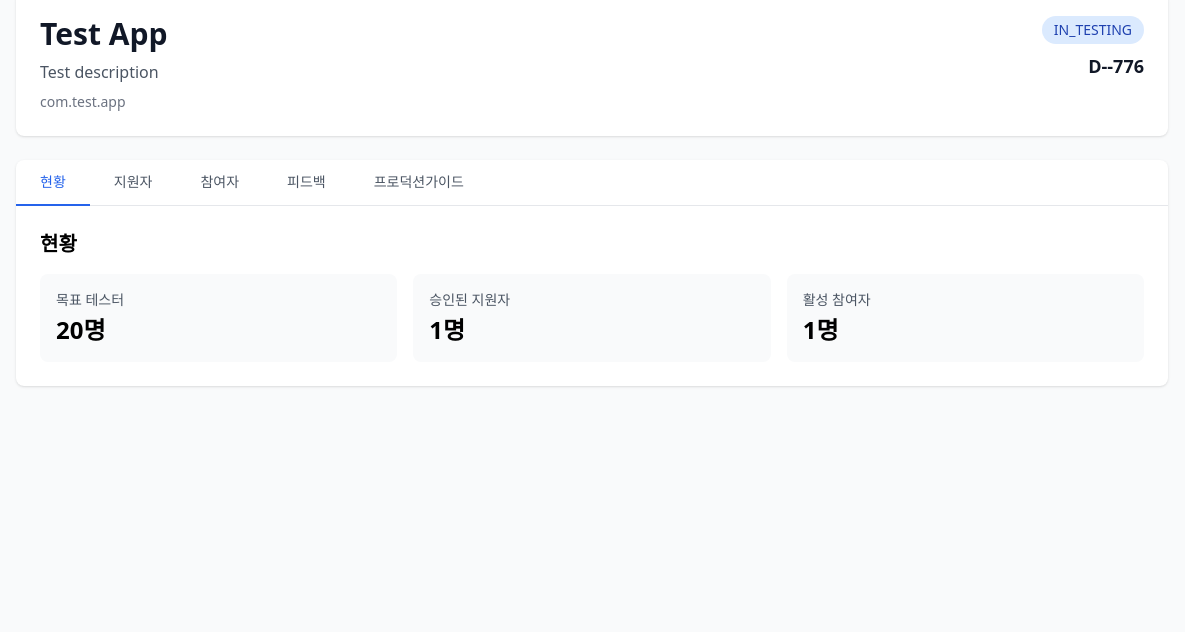
Test: AppDetailPage › Applicants Tab › displays applicants list
The width and height of the screenshot is (1185, 632).
Expected: the heading "Test App" is shown, [40,16,167,52]
Click the tab "지원자" at (133, 183), box [90,160,176,206]
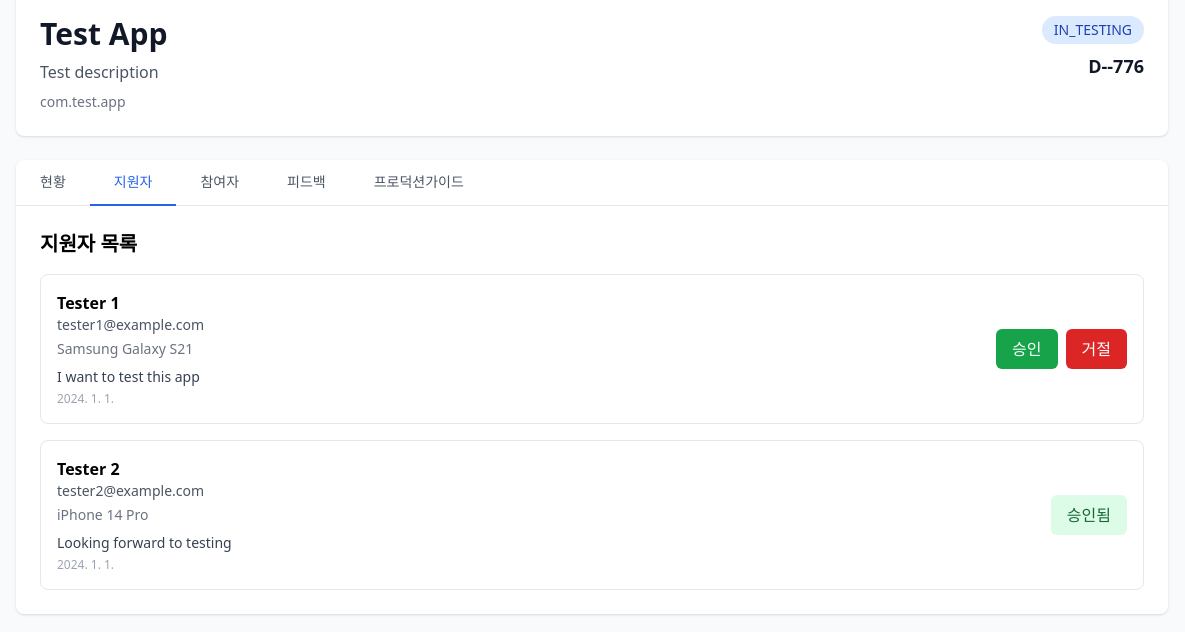
Now the text "Tester 1" is shown, box [57,292,120,314]
Now the text "Tester 2" is shown, box [57,458,120,480]
Now the text "Samsung Galaxy S21" is shown, box [57,339,204,359]
